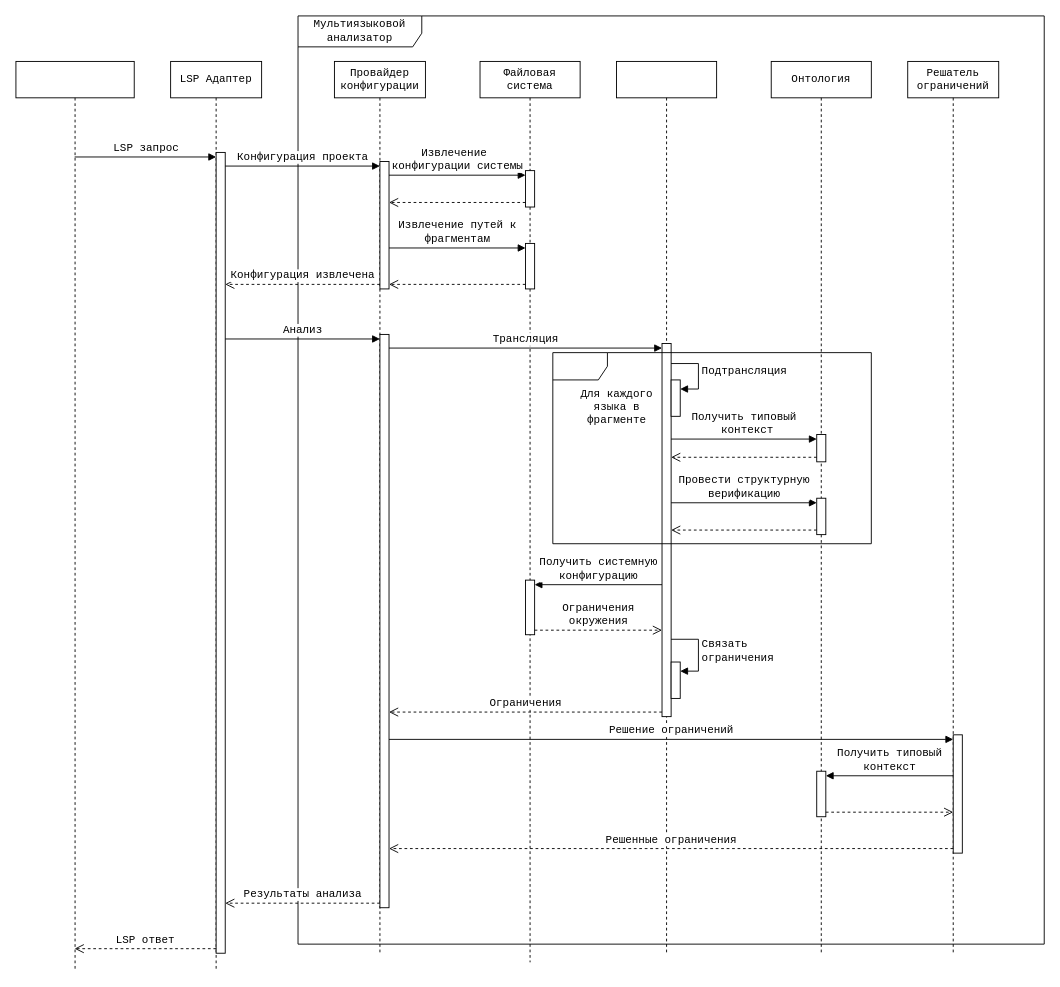
Image size: 1060x987. Some labels were removed from this diagram. Here are the shapes that lost their labels. From the top down, the box of each, then its label:
(552, 352, 871, 544): loop
(15, 61, 134, 971): Инструментальное средство
(616, 61, 717, 953): Мультиязыковой транслятор
